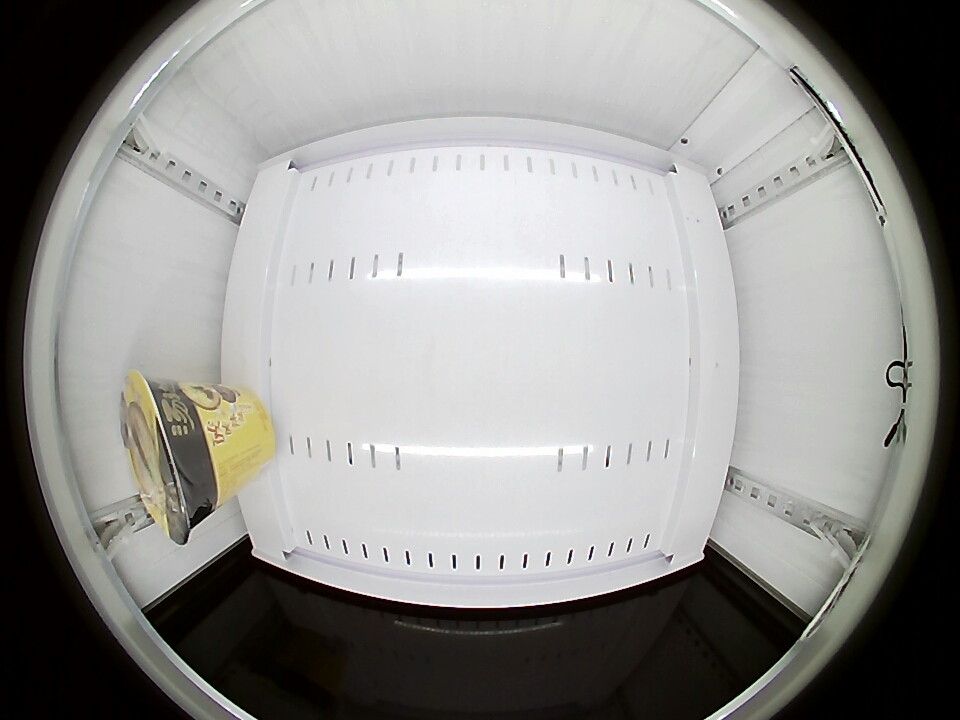tangdaren2: (120, 374, 220, 543)
